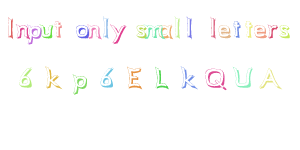6: (12, 61, 37, 91), (95, 62, 119, 93)
A: (254, 61, 287, 93)
E: (119, 62, 150, 95)
I: (2, 12, 20, 42)
L: (150, 62, 175, 94)
Q: (202, 61, 230, 95)
U: (230, 62, 257, 96)
a: (156, 19, 174, 42)
e: (253, 20, 267, 42), (217, 24, 231, 40)
k: (174, 62, 202, 95), (39, 63, 65, 93)
l: (182, 13, 197, 39), (99, 13, 111, 40), (206, 12, 218, 39), (172, 14, 183, 41)
m: (142, 20, 164, 44)
n: (85, 20, 103, 42), (14, 21, 31, 41)
o: (73, 21, 91, 43)
p: (67, 71, 91, 99), (25, 21, 44, 46)
r: (265, 19, 279, 41)
s: (133, 21, 149, 41), (279, 19, 293, 41)
t: (53, 14, 65, 41), (242, 16, 254, 40), (230, 15, 241, 39)
u: (37, 21, 54, 41)
y: (109, 21, 128, 46)
